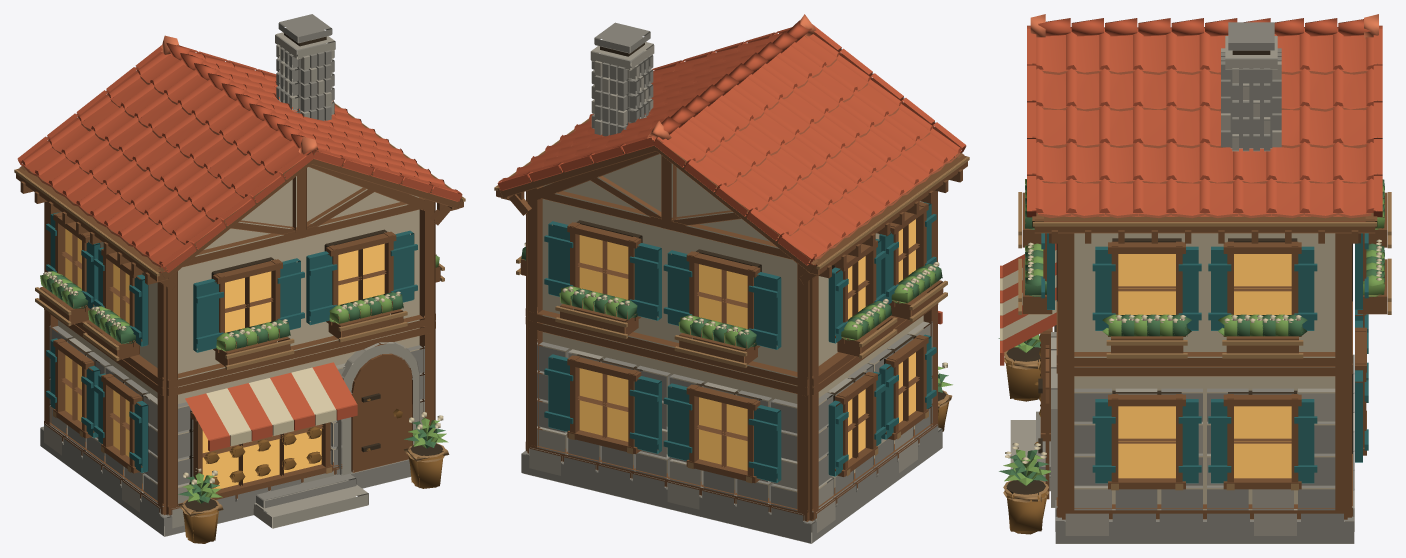
3 renders of one model, left to right at view 1: azimuth 30°, elevation 25°; view 2: azimuth 150°, elevation 25°; view 3: azimuth 270°, elevation 25°, orthographic. The views are drawn at different scales.
Parts seen in each view (by area): view 1: alpine_shop_2_geometry, alpine_shop_2_geometry ceramic; view 2: alpine_shop_2_geometry, alpine_shop_2_geometry ceramic; view 3: alpine_shop_2_geometry, alpine_shop_2_geometry ceramic.
Part boxes in pixels (x1,y1,x2,y2): alpine_shop_2_geometry: (14, 14, 465, 543); alpine_shop_2_geometry ceramic: (17, 35, 462, 451); alpine_shop_2_geometry: (494, 22, 969, 543); alpine_shop_2_geometry ceramic: (497, 14, 966, 324); alpine_shop_2_geometry: (998, 22, 1391, 543); alpine_shop_2_geometry ceramic: (1000, 14, 1382, 365).
Size of the model in its own units: 0.99 by 1.15 by 0.851.
